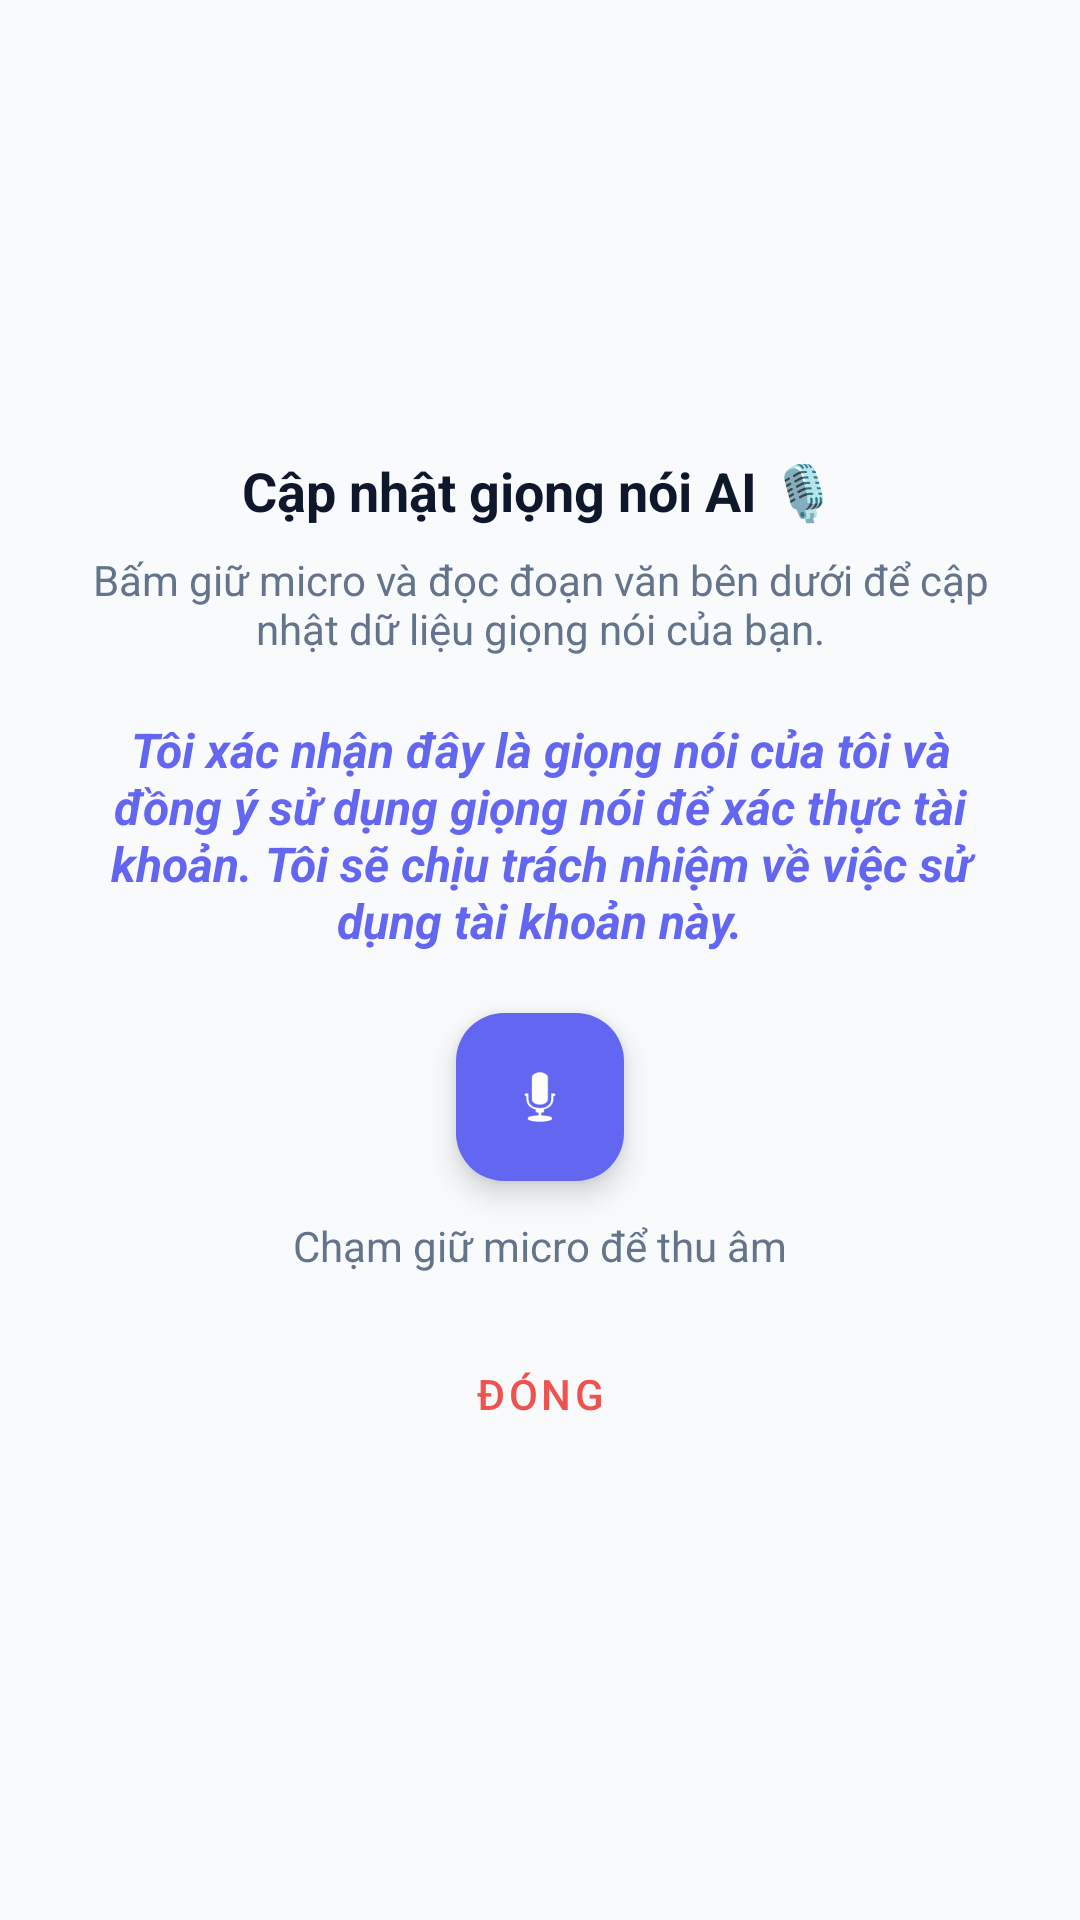

Icon click points for this 1080px×1920px phone screenshot, format (x,y):
speak now: (540,1097)
